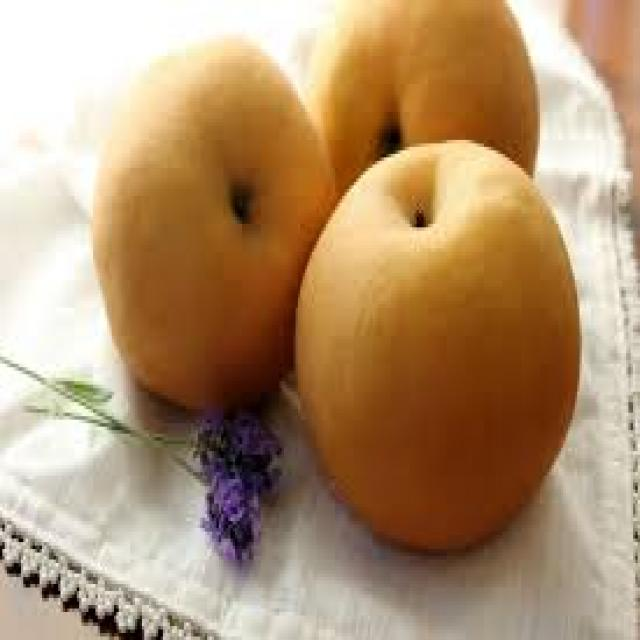Pear: (300, 140, 584, 553)
